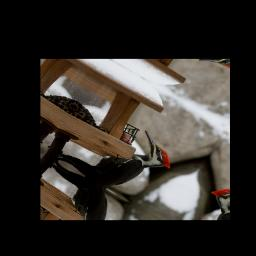Woodpecker: (51, 100, 188, 211)
